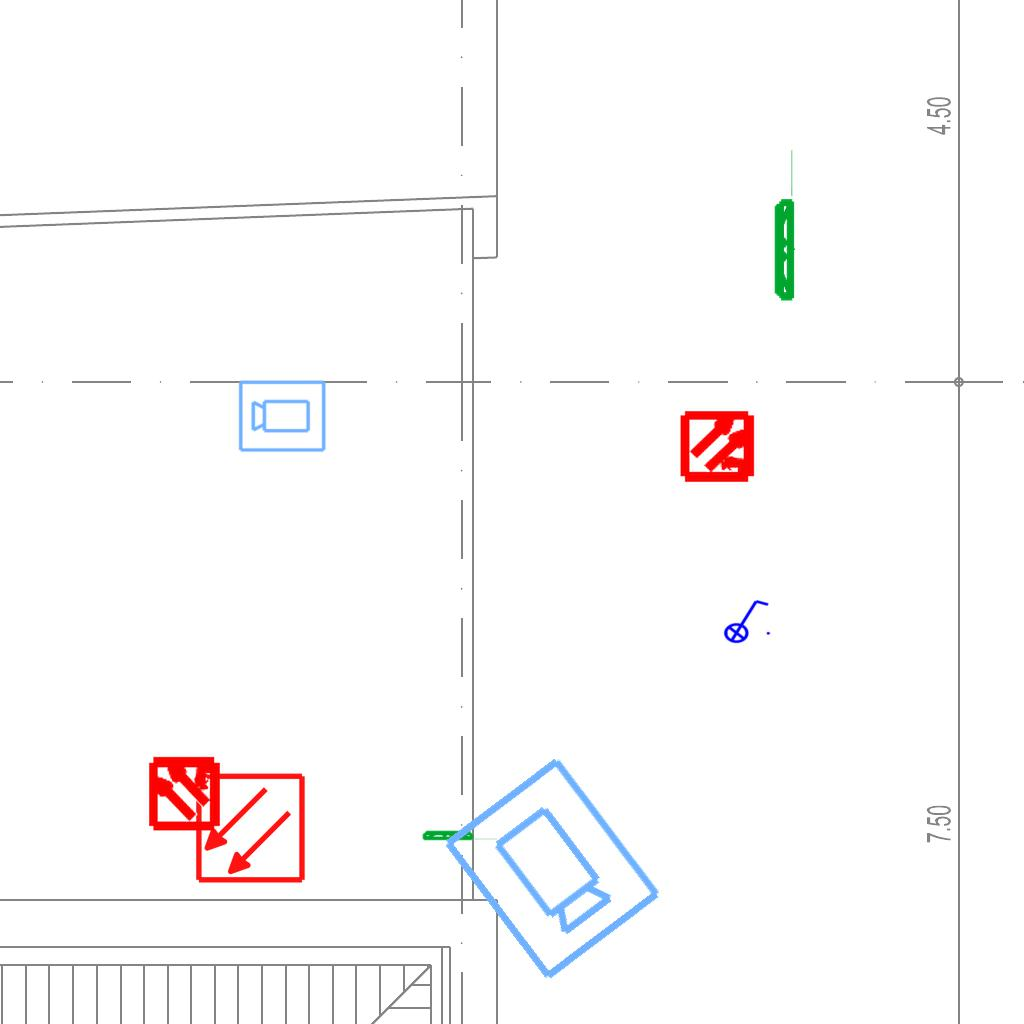Ausschalter_beleuchtet: (717, 596, 773, 644)
KFO_Kamera_mit_Festobjektiv: (434, 749, 668, 989), (237, 377, 328, 454)
OT_Multisensormelder_(Kombination_RMO_WMD): (663, 390, 776, 503), (128, 735, 241, 848)
RMO_Rauchmelder_optischer: (194, 772, 307, 885)
Sicherheitsleuchte_Wandeinbau: (771, 145, 796, 304), (421, 829, 500, 841)
